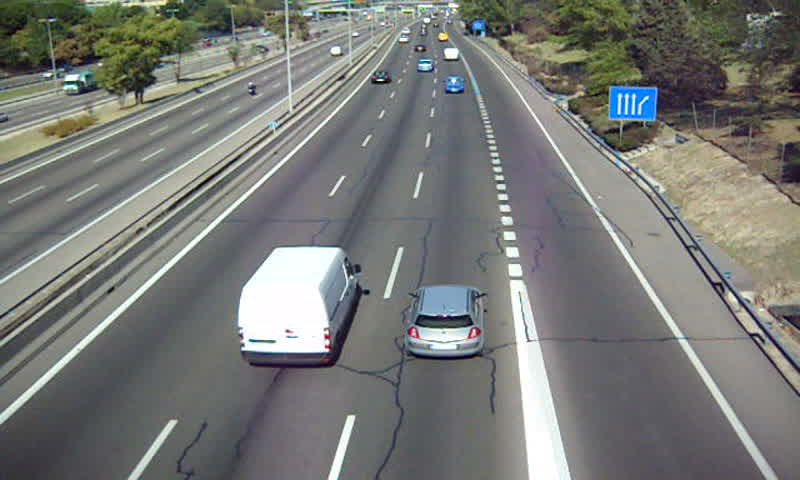car: (407, 285, 484, 359), (443, 75, 467, 95), (368, 70, 392, 86), (416, 58, 434, 73)
van: (237, 247, 360, 368), (442, 47, 460, 62)
